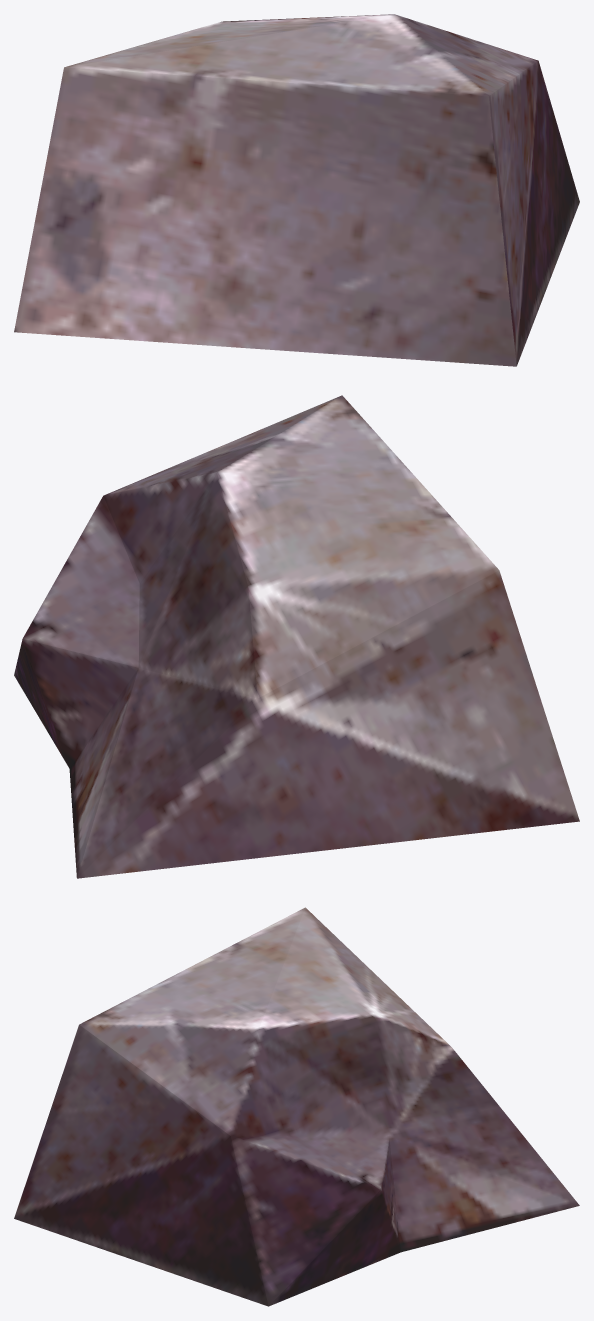
3 renders of one model, top to bottom at view 1: azimuth 30°, elevation 25°; view 2: azimuth 150°, elevation 25°; view 3: azimuth 270°, elevation 25°, orthographic. The views are drawn at different scales.
Visible parts, largest first — view 1: id400711; view 2: id400711; view 3: id400711.
Part boxes in pixels (box(x1,y1,x2,y2)): id400711: box(14, 14, 579, 366); id400711: box(14, 395, 579, 878); id400711: box(14, 907, 579, 1306).
Bounding box in the file's own units: 29.87 × 12.22 × 31.54.
1 material, 1 textured.
